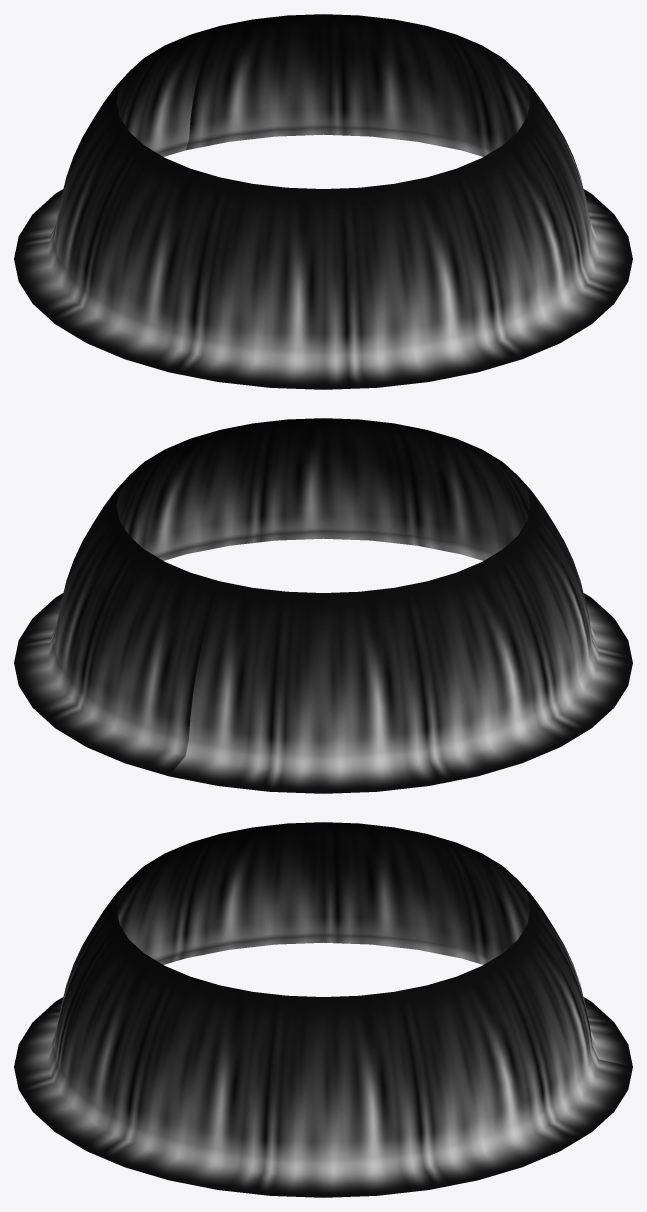
The model's file is FX_shockwave_mesh.fbx.
The picture shows the model from 3 angles, top to bottom: view 1: azimuth 30°, elevation 25°; view 2: azimuth 150°, elevation 25°; view 3: azimuth 270°, elevation 25°; orthographic projection.
Parts seen in each view (by area): view 1: FX_mesh_shockwave; view 2: FX_mesh_shockwave; view 3: FX_mesh_shockwave.
Boxes of the visible parts, bbox=[...] form: FX_mesh_shockwave: bbox=[14, 14, 632, 389]; FX_mesh_shockwave: bbox=[14, 418, 632, 793]; FX_mesh_shockwave: bbox=[14, 822, 632, 1197].
Size of the model in its own units: 2.29 by 0.6428 by 2.29.
Materials: 1 (1 with a texture image).
